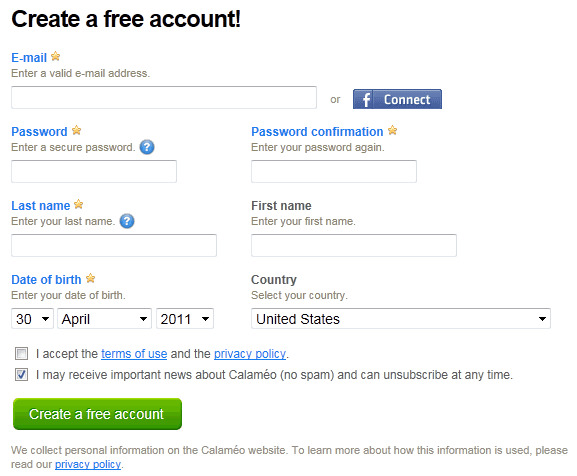_form_: (153, 26, 569, 442), (1, 32, 416, 448)
button: (12, 398, 184, 430), (352, 88, 442, 111)
checkbox: (13, 368, 32, 383), (15, 345, 31, 361)
checkbox_with_label: (11, 366, 511, 384), (12, 344, 291, 362)
field: (11, 84, 318, 109), (251, 308, 550, 330), (10, 231, 218, 258), (250, 233, 457, 258), (9, 158, 177, 184), (251, 158, 418, 184), (56, 308, 153, 330), (154, 308, 213, 330), (10, 308, 54, 329)
field_with_label: (9, 67, 321, 111), (249, 289, 553, 333), (248, 215, 461, 261), (8, 215, 221, 260), (6, 141, 179, 185), (249, 142, 421, 185)
